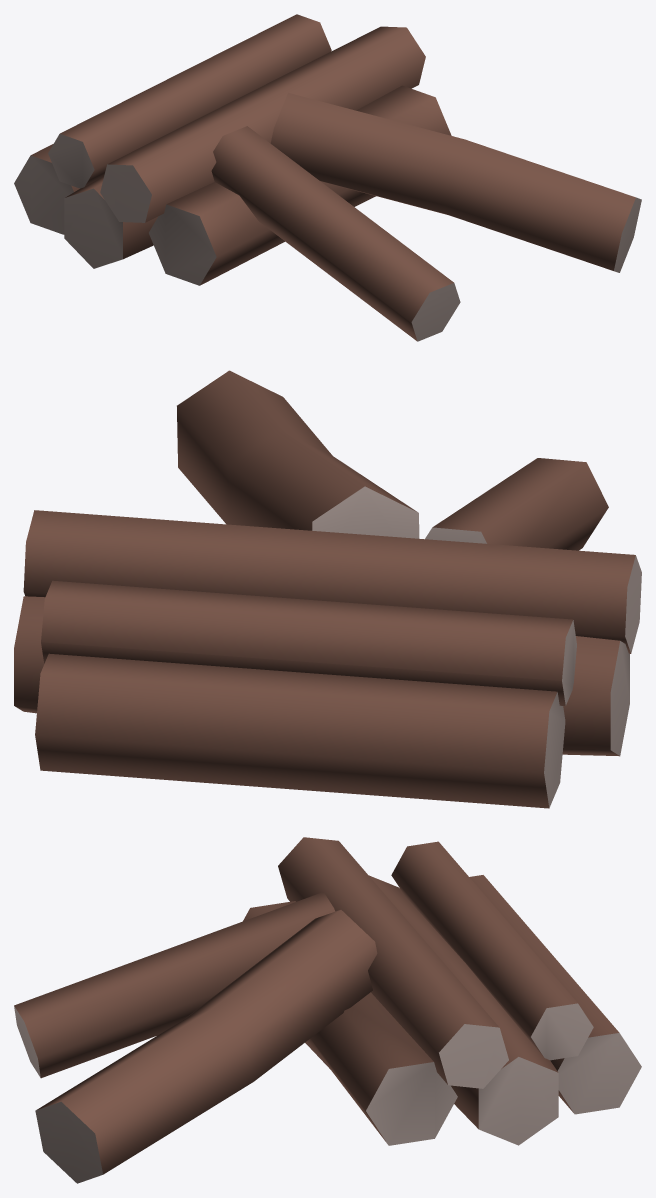
File: firewood_003.glb
The picture shows the model from 3 angles, top to bottom: view 1: azimuth 30°, elevation 25°; view 2: azimuth 150°, elevation 25°; view 3: azimuth 270°, elevation 25°; orthographic projection. The views are drawn at different scales.
Visible parts, largest first — view 1: firewood_003; view 2: firewood_003; view 3: firewood_003.
Boxes of the visible parts, x1=… form: firewood_003: x1=14, y1=14, x2=641, y2=341; firewood_003: x1=14, y1=370, x2=641, y2=808; firewood_003: x1=14, y1=837, x2=641, y2=1183.
Size of the model in its own units: 0.9017 by 0.2834 by 1.
Materials: 1 (1 with a texture image).
